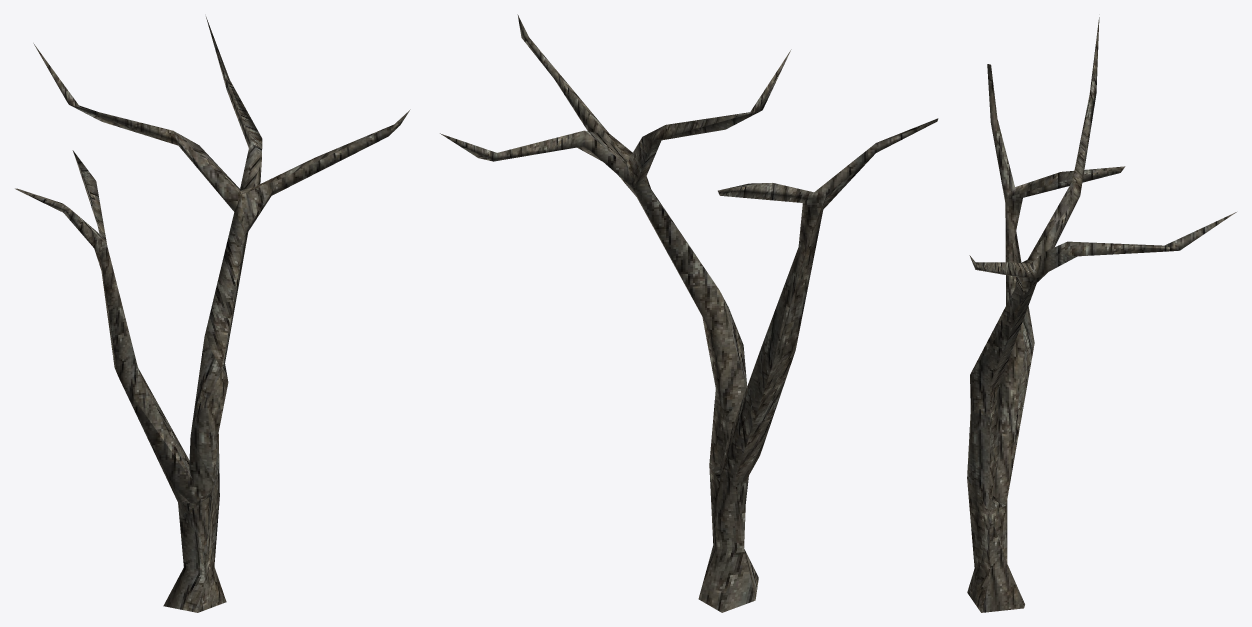
Rendered from tree_dead_2.glb.
3 renders of one model, left to right at view 1: azimuth 30°, elevation 25°; view 2: azimuth 150°, elevation 25°; view 3: azimuth 270°, elevation 25°, orthographic. The views are drawn at different scales.
Parts seen in each view (by area): view 1: tree_dead_2; view 2: tree_dead_2; view 3: tree_dead_2.
Boxes of the visible parts, x1=… form: tree_dead_2: x1=15, y1=17, x2=410, y2=612; tree_dead_2: x1=440, y1=14, x2=938, y2=612; tree_dead_2: x1=967, y1=17, x2=1236, y2=612.
Bounding box in the file's own units: 5.24 × 7.22 × 3.27.
1 material, 1 textured.
